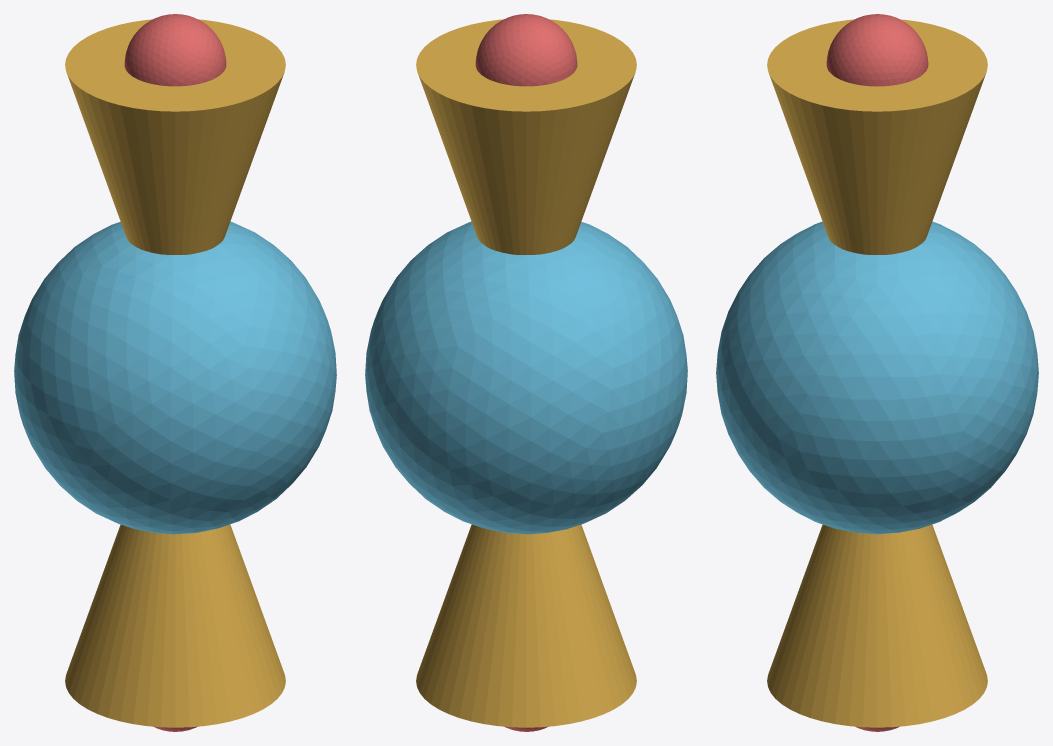
The model's file is ngc6905.glb.
3 renders of one model, left to right at view 1: azimuth 30°, elevation 25°; view 2: azimuth 150°, elevation 25°; view 3: azimuth 270°, elevation 25°, orthographic.
Parts seen in each view (by area): view 1: shell, lobes, knots; view 2: shell, lobes, knots; view 3: shell, lobes, knots.
Part boxes in pixels (box(x1,y1,x2,y2)): shell: box(14, 221, 336, 534); lobes: box(65, 19, 285, 727); knots: box(124, 14, 226, 731); shell: box(365, 221, 687, 534); lobes: box(416, 19, 636, 727); knots: box(475, 14, 577, 731); shell: box(716, 221, 1038, 534); lobes: box(767, 19, 987, 727); knots: box(826, 14, 928, 731).
Size of the model in its own units: 0.062 by 0.15 by 0.062.
